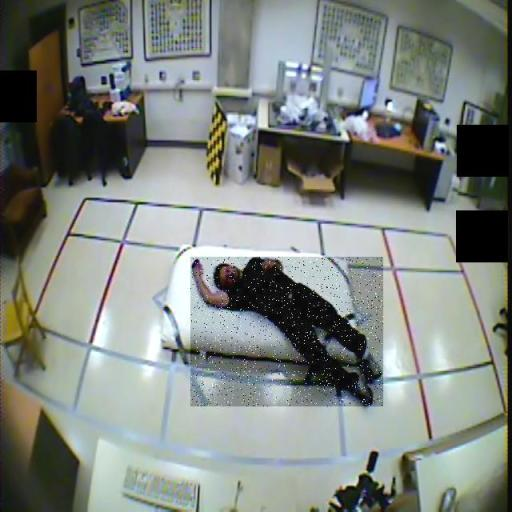Fall: (191, 257, 384, 406)
